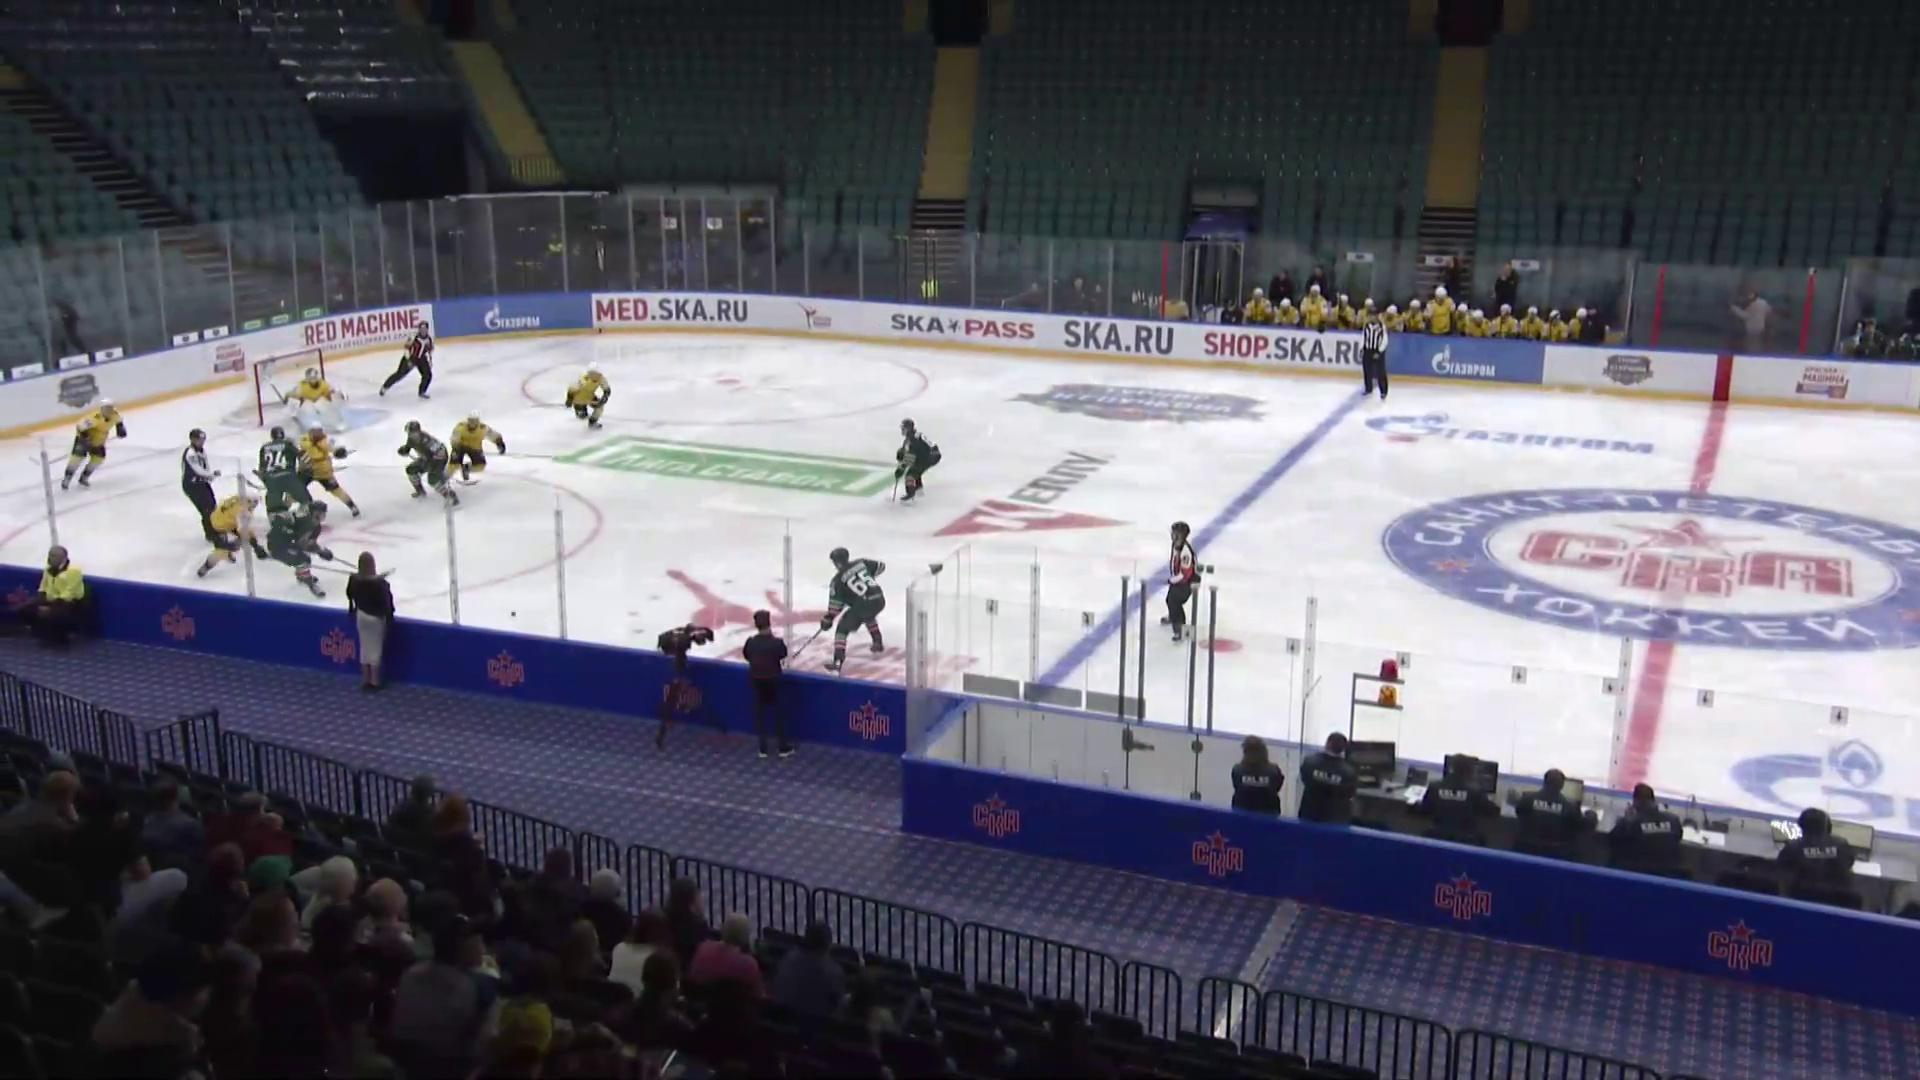ball: (509, 611, 517, 618)
